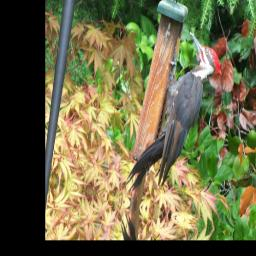Woodpecker: (125, 18, 226, 213)
